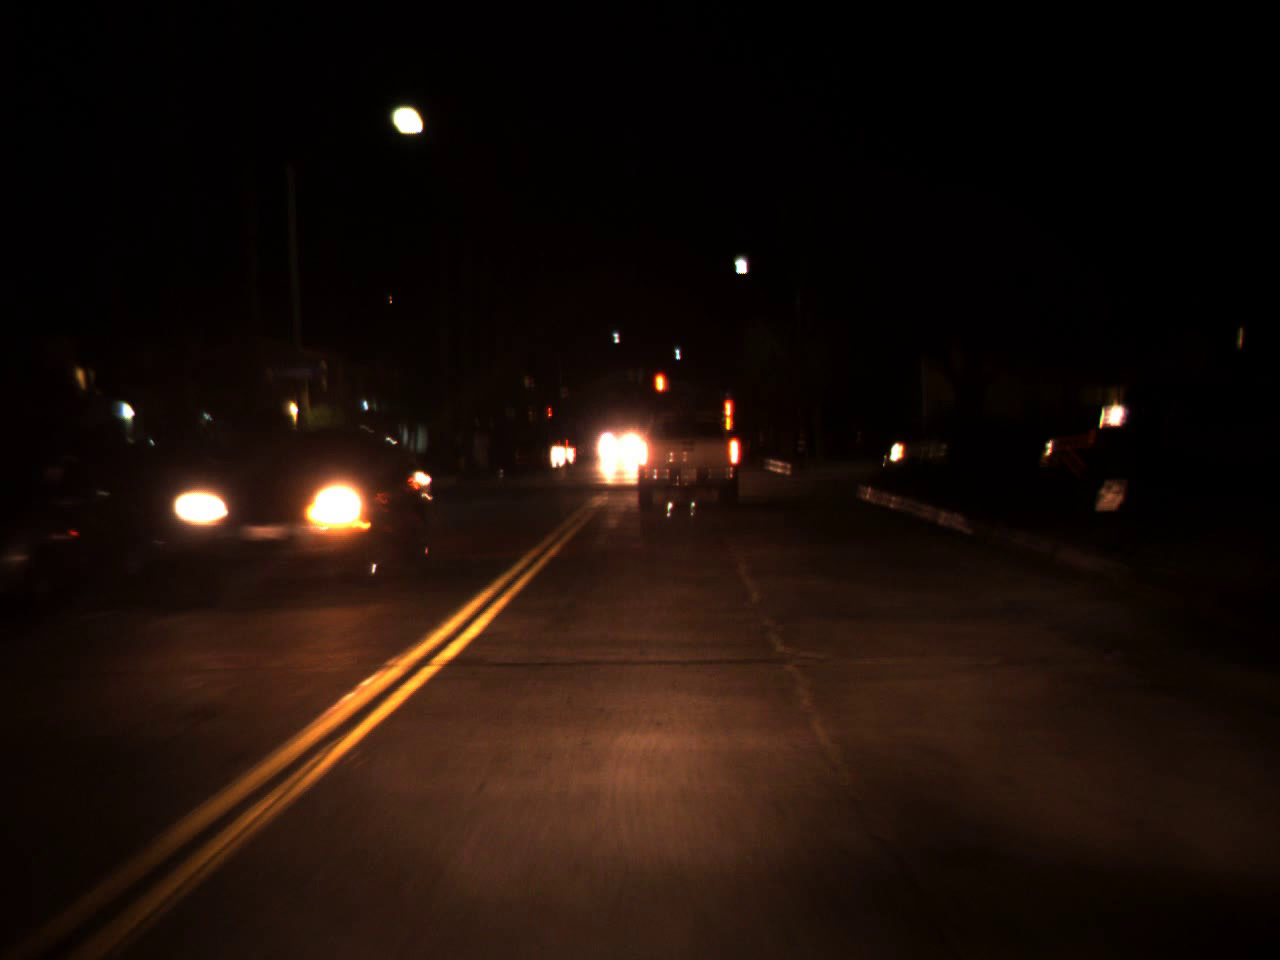stop: (652, 369, 670, 417), (722, 399, 735, 431), (547, 406, 553, 427)
